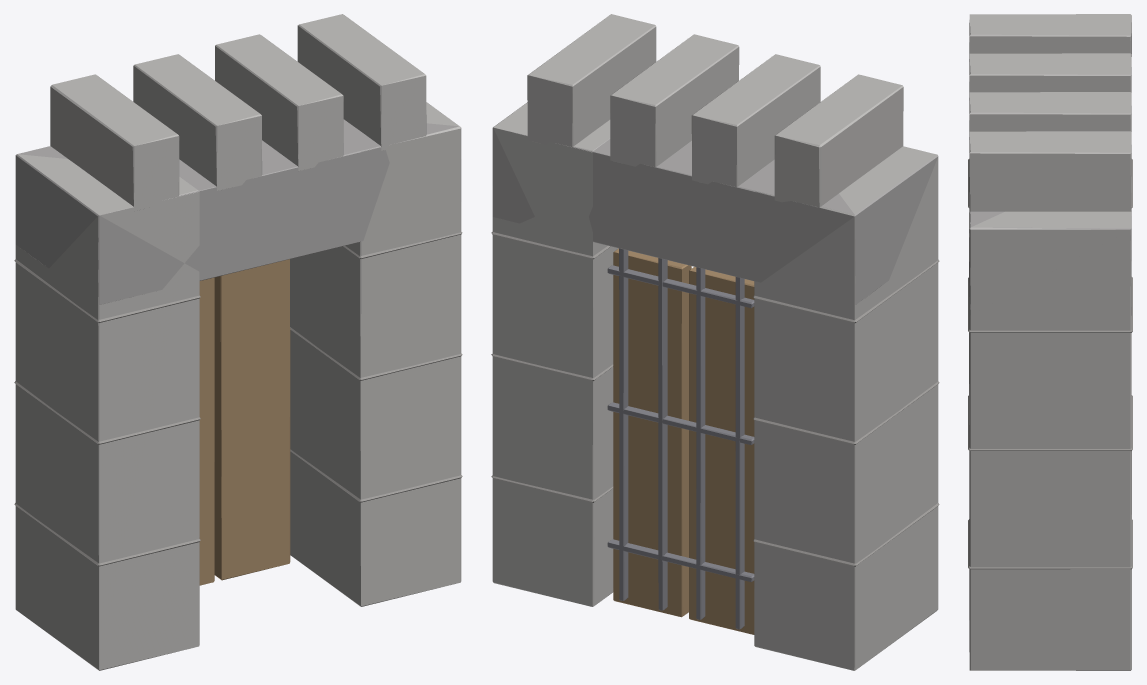
The model's file is fort_gate.glb.
3 views of the same model, side by side, from view 1: azimuth 30°, elevation 25°; view 2: azimuth 150°, elevation 25°; view 3: azimuth 270°, elevation 25° (orthographic). The views are drawn at different scales.
Parts seen in each view (by area): view 1: fort_gate; view 2: fort_gate; view 3: fort_gate.
Boxes of the visible parts, x1=… form: fort_gate: x1=14, y1=14, x2=462, y2=670; fort_gate: x1=491, y1=14, x2=939, y2=670; fort_gate: x1=968, y1=14, x2=1132, y2=670.
Bounding box in the file's own units: 2.51 × 3.4 × 1.01.
